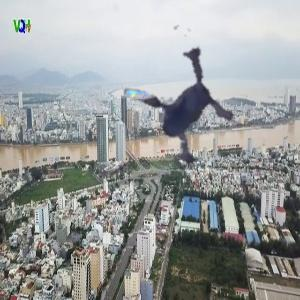drone: (73, 7, 257, 191)
